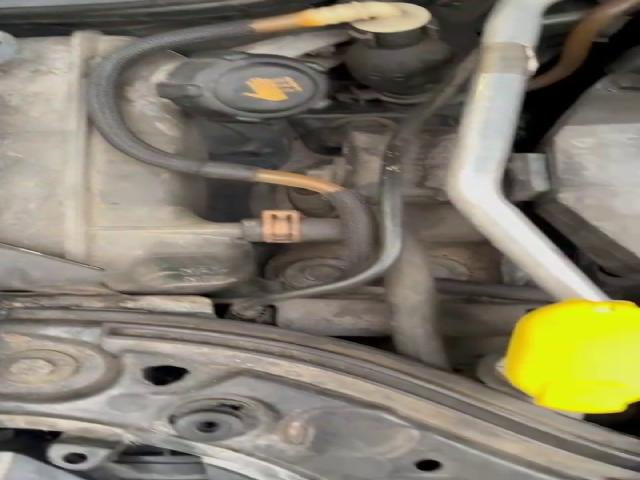antifreeze_tank: (2, 32, 250, 293), (119, 51, 329, 158)
